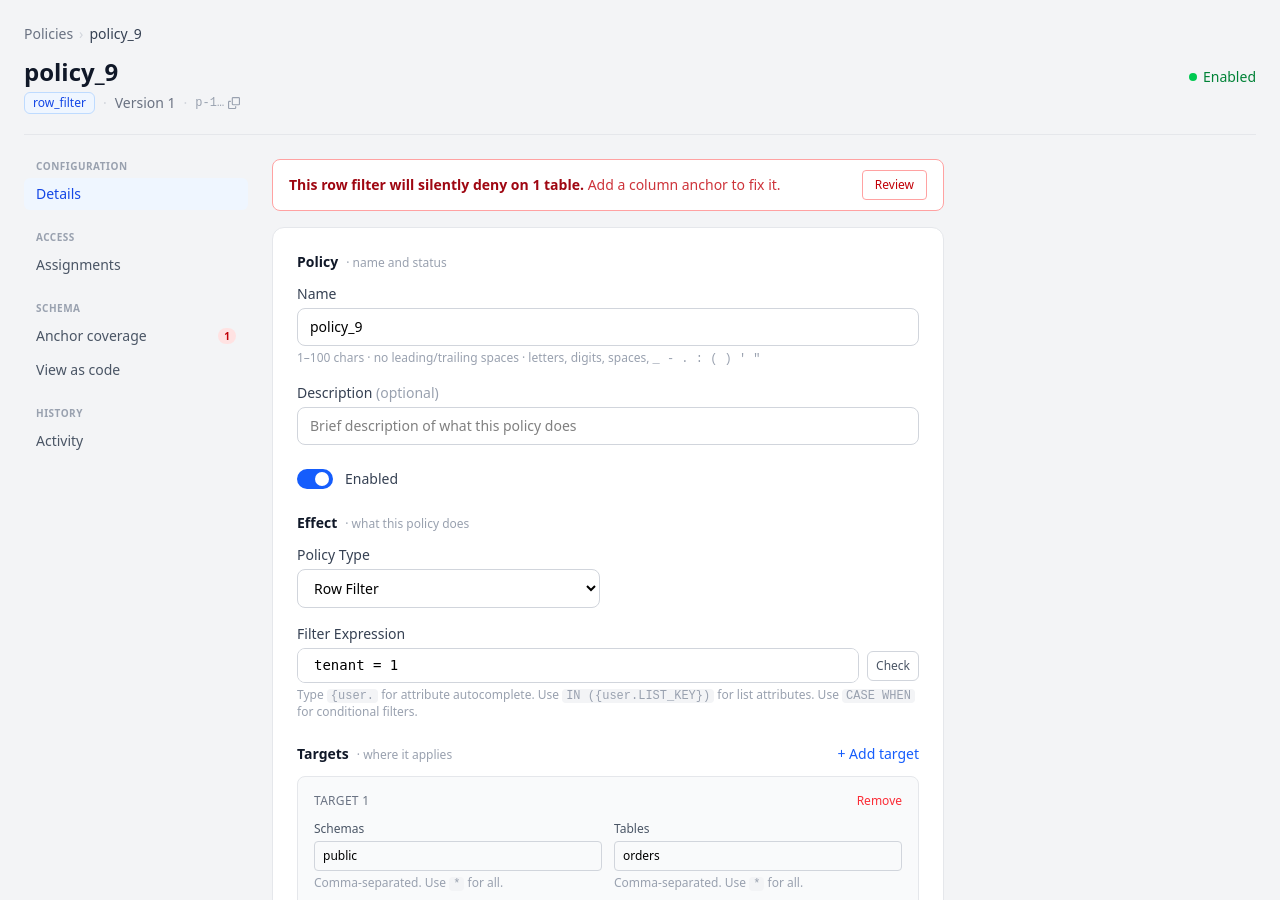
Scenario: PolicyEditPage › hides the banner once the user is on the Anchor coverage section
The width and height of the screenshot is (1280, 900).
Expected: the element with test id "anchor-coverage-banner" is shown, [272,159,944,211]
Step 1. Click the button "Review" → click(894, 185), box [862,170,927,200]
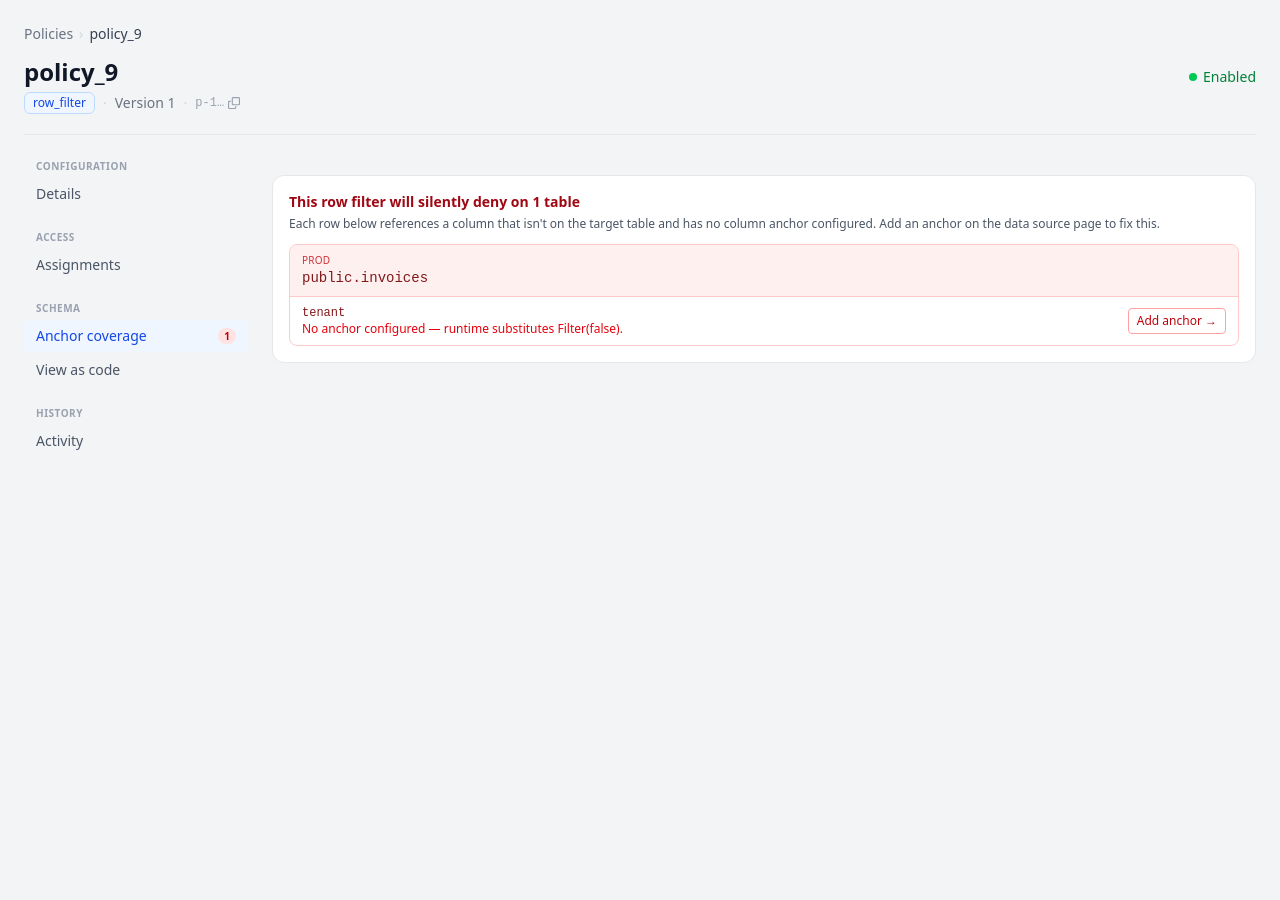
Expected: the element with test id "anchor-coverage-banner" is gone
